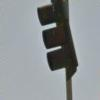Traffic light: (30, 4, 81, 80)
